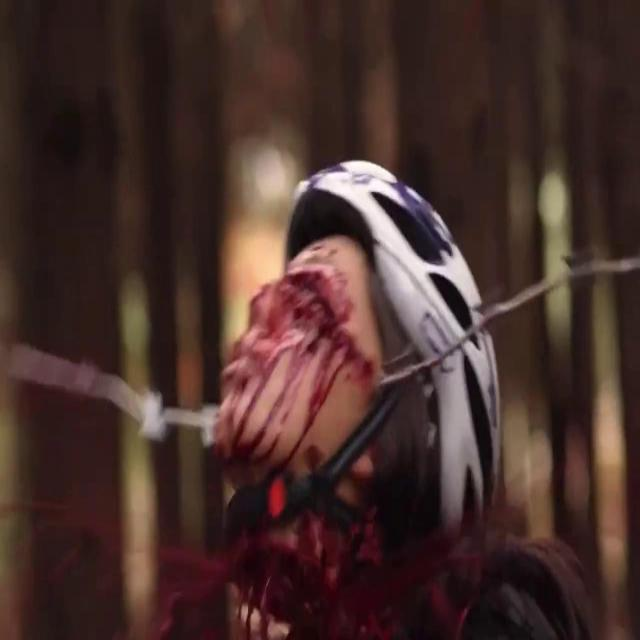flood: (247, 274, 351, 364)
